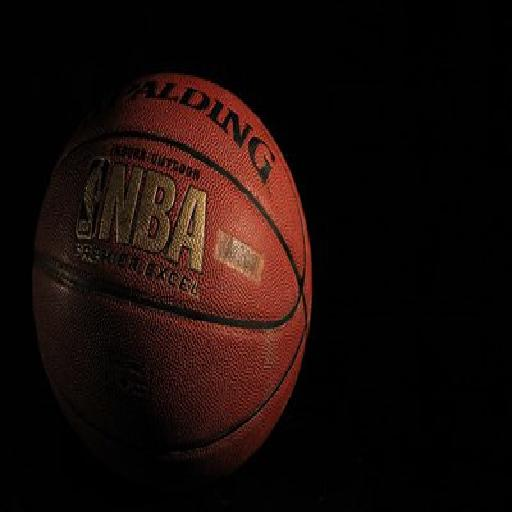ball: (15, 73, 312, 485)
